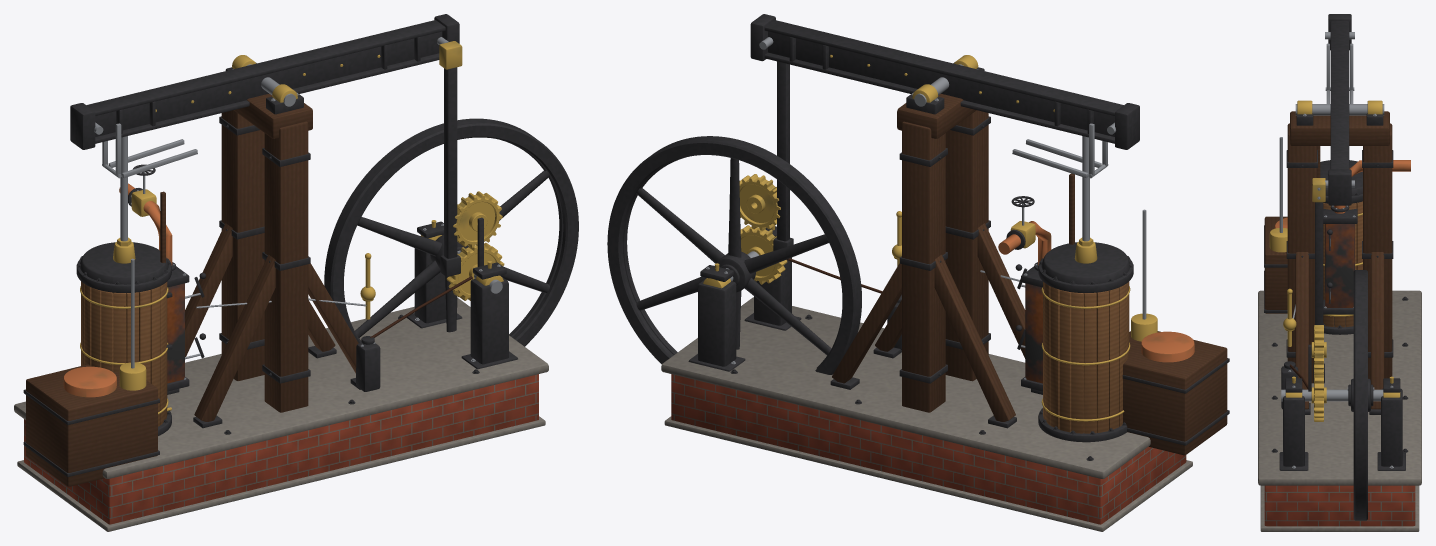
File: watt_engine.glb
3 renders of one model, left to right at view 1: azimuth 30°, elevation 25°; view 2: azimuth 150°, elevation 25°; view 3: azimuth 270°, elevation 25°, orthographic. The views are drawn at different scales.
Parts seen in each view (by area): view 1: baseCap, base, postF, coldWell, flyRim, postB, beamWeb, beamFlangeT, plinth, braceF, shaftPedestal0.55, conRodBar (+25 smaller); view 2: baseCap, base, flyRim, postB, coldWell, postF, beamWeb, beamFlangeT, plinth, braceB, shaftPedestal-0.62, cylCover (+29 smaller); view 3: baseCap, base, postB, postF, flyRim, beamFlangeT, valveChest, postCap, braceRB, braceRF, coldWell, shaftPedestal-0.62 (+31 smaller).
Boxes of the visible parts, <box> form: baseCap: <box>14,297,548,478</box>; base: <box>24,374,538,524</box>; postF: <box>264,121,308,412</box>; coldWell: <box>26,364,157,486</box>; flyRim: <box>324,118,578,346</box>; postB: <box>221,110,264,380</box>; beamWeb: <box>95,31,442,136</box>; beamFlangeT: <box>86,20,445,115</box>; plinth: <box>17,416,545,531</box>; braceF: <box>194,254,275,421</box>; shaftPedestal0.55: <box>470,275,508,364</box>; conRodBar: <box>444,67,457,258</box>; baseCap: <box>661,297,1150,478</box>; base: <box>671,374,1186,524</box>; flyRim: <box>607,136,861,374</box>; postB: <box>902,121,945,412</box>; coldWell: <box>1123,331,1227,455</box>; postF: <box>945,110,988,381</box>; beamWeb: <box>768,31,1114,136</box>; beamFlangeT: <box>764,20,1123,115</box>; plinth: <box>664,416,1192,531</box>; braceB: <box>934,254,1015,421</box>; shaftPedestal-0.62: <box>698,278,736,366</box>; cylCover: <box>1041,242,1130,284</box>; baseCap: <box>1258,290,1421,485</box>; base: <box>1264,485,1415,526</box>; postB: <box>1363,123,1392,380</box>; postF: <box>1287,123,1316,383</box>; flyRim: <box>1353,270,1367,520</box>; beamFlangeT: <box>1330,21,1349,169</box>; valveChest: <box>1325,224,1354,307</box>; postCap: <box>1290,111,1389,145</box>; braceRB: <box>1371,252,1384,409</box>; braceRF: <box>1295,252,1308,409</box>; coldWell: <box>1264,216,1287,313</box>; shaftPedestal-0.62: <box>1381,388,1402,466</box>.
Size of the model in its own units: 6.81 by 4.46 by 1.96.
10 materials, 8 textured.
